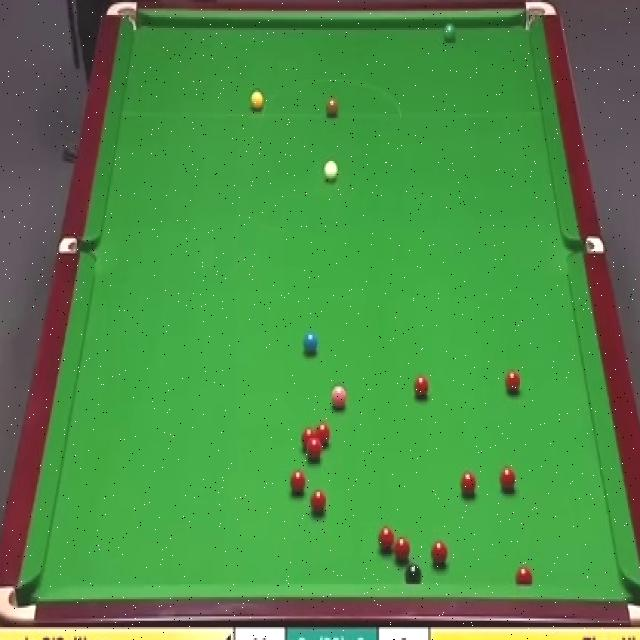black-ball: (406, 561, 422, 585)
blue-ball: (302, 331, 320, 354)
brown-ball: (326, 94, 338, 116)
green-ball: (442, 23, 457, 44)
pink-ball: (330, 385, 348, 412)
red-ball: (430, 541, 449, 570), (286, 471, 308, 496), (394, 533, 411, 565), (459, 471, 479, 498), (413, 372, 430, 401), (377, 527, 395, 554), (500, 466, 518, 492), (305, 496, 324, 519), (504, 369, 520, 396), (301, 427, 316, 454), (514, 565, 534, 583), (316, 423, 330, 448), (307, 441, 323, 462)
white-ball: (325, 160, 338, 186)
yellow-ball: (249, 93, 263, 110)
